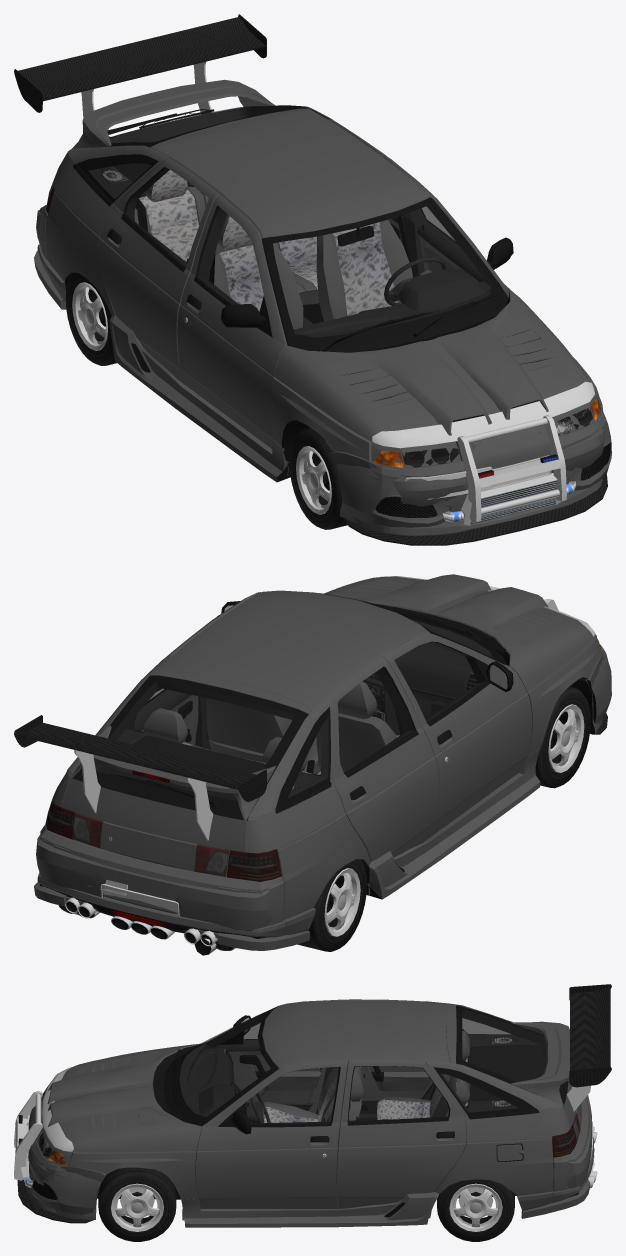
The picture shows the model from 3 angles, top to bottom: view 1: azimuth 30°, elevation 25°; view 2: azimuth 150°, elevation 25°; view 3: azimuth 270°, elevation 25°; orthographic projection. The views are drawn at different scales.
Visible parts, largest first — view 1: chassis_fi, windscre01, seats, door_lf_ok, roof_2, door_lr_ok, spoiler_2, hoodlid, bumberF_4, bumberF_3, fenderR_2, bumberF_2 (+20 smaller); view 2: chassis_fi, glass, door_lf_ok, trunklid, door_lr_ok, bumberR_2, seats, spoiler_2, roof_2, bumberR_1, fenderR_2, hoodlid (+21 smaller); view 3: chassis_fi, door_rf_ok, door_rr_ok, glass, windscre01, roof_2, fenderR_2, hoodlid, wheel_rf_d, glass_rr_o, spoiler_2, seats (+21 smaller).
Boxes of the visible parts, x1,y1,x2,y2 form: chassis_fi: (45,105,508,461); windscre01: (263,198,507,350); seats: (134,170,412,329); door_lf_ok: (177,194,287,448); roof_2: (308,301,567,435); door_lr_ok: (98,158,219,384); spoiler_2: (14,14,266,117); hoodlid: (274,291,593,442); bumberF_4: (270,357,603,535); bumberF_3: (344,411,607,545); fenderR_2: (109,315,290,482); bumberF_2: (336,412,611,527); chassis_fi: (52,590,585,920); glass: (73,676,330,819); door_lf_ok: (382,633,531,837); trunklid: (62,670,311,852); door_lr_ok: (330,656,439,861); bumberR_2: (34,834,310,950); seats: (134,681,399,775); spoiler_2: (14,715,266,840); roof_2: (341,574,567,653); bumberR_1: (37,824,315,938); fenderR_2: (367,749,540,899); hoodlid: (324,576,593,692); chassis_fi: (97,1000,569,1199); door_rf_ok: (195,1059,348,1208); door_rr_ok: (336,1059,466,1208); glass: (434,1005,567,1115); windscre01: (171,1007,277,1125); roof_2: (47,1048,182,1133); fenderR_2: (181,1192,439,1227); hoodlid: (55,1043,201,1152); wheel_rf_d: (98,1167,176,1241); glass_rr_o: (348,1066,448,1121); spoiler_2: (566,984,611,1111); seats: (249,1031,469,1122).
Bounding box in the file's own units: 2.14 × 5.07 × 1.6.
Materials: 24 (10 with a texture image).
